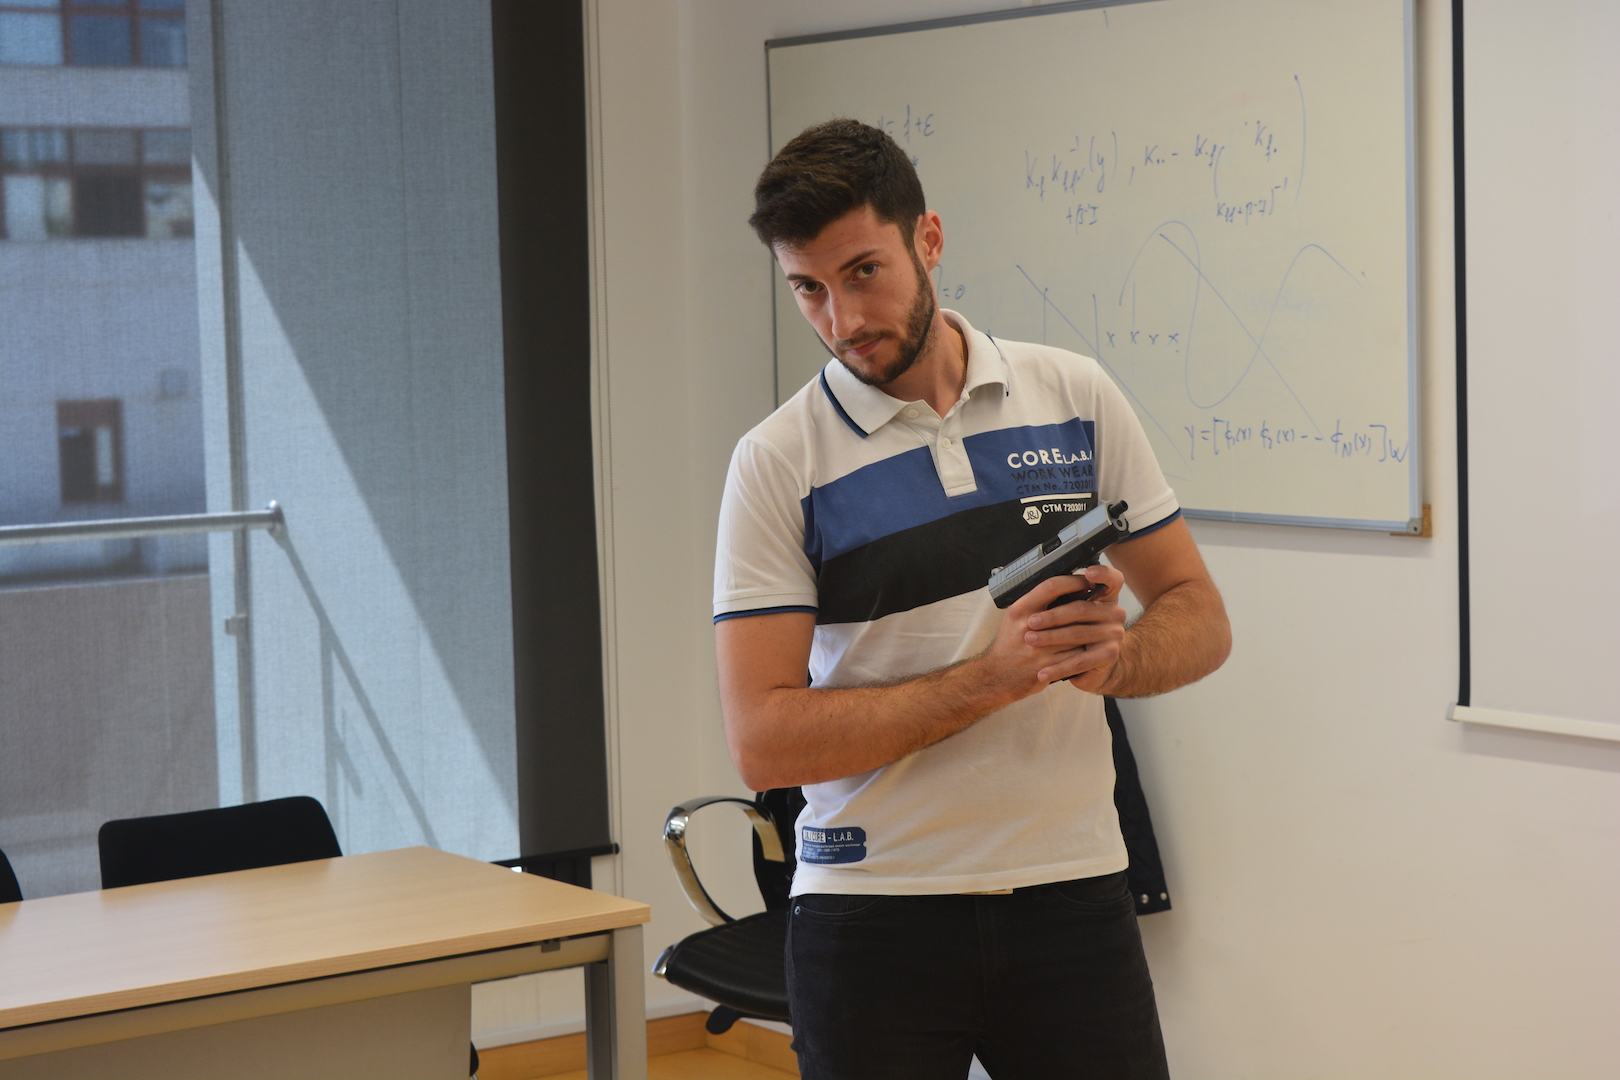pistol: (986, 498, 1133, 687)
